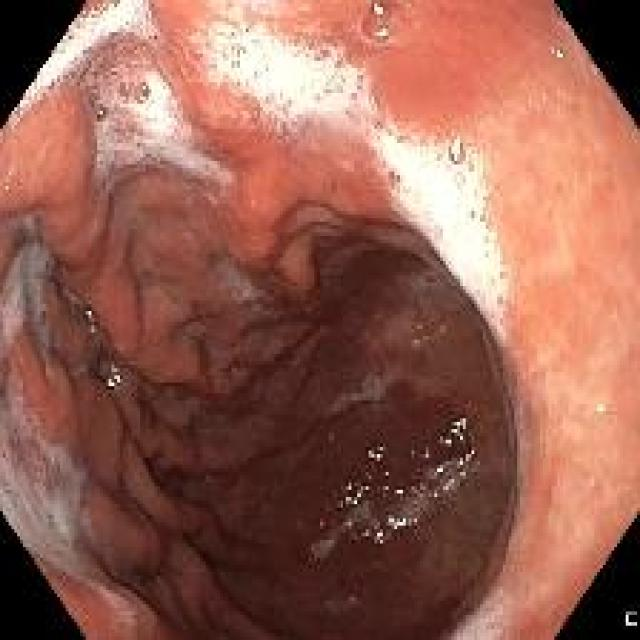bubbles: (375, 116, 526, 341), (192, 10, 368, 160), (90, 69, 231, 192), (12, 3, 166, 103), (419, 407, 498, 520), (344, 500, 428, 547), (325, 367, 391, 419), (359, 5, 417, 47), (217, 23, 254, 73), (327, 469, 374, 506), (449, 137, 477, 192), (306, 527, 342, 563), (360, 437, 389, 469), (377, 476, 404, 502), (112, 80, 134, 109), (133, 77, 150, 109), (592, 395, 610, 424), (0, 174, 17, 204), (91, 99, 109, 123)
specularity: (430, 452, 479, 490), (360, 517, 414, 544), (331, 479, 373, 506), (439, 420, 472, 445), (366, 443, 386, 468), (547, 40, 566, 64), (382, 481, 404, 499), (553, 6, 569, 24), (371, 2, 387, 17), (451, 137, 461, 159), (377, 25, 388, 40), (112, 375, 122, 384), (450, 427, 459, 437), (106, 378, 115, 386), (85, 308, 92, 318), (455, 173, 462, 182), (597, 404, 603, 414), (141, 83, 148, 91), (139, 94, 147, 101), (89, 323, 94, 334), (82, 7, 88, 15), (97, 106, 102, 114), (111, 365, 116, 371), (232, 60, 237, 66), (228, 33, 233, 37)
